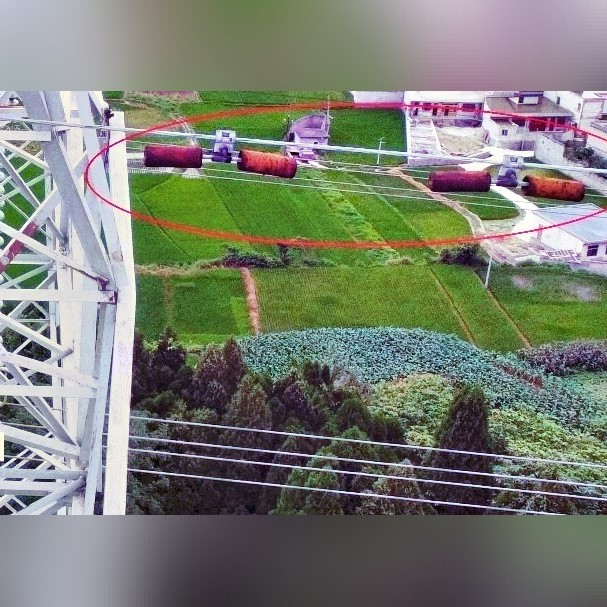Shockproof hammer: (136, 125, 311, 191), (419, 148, 591, 208)
